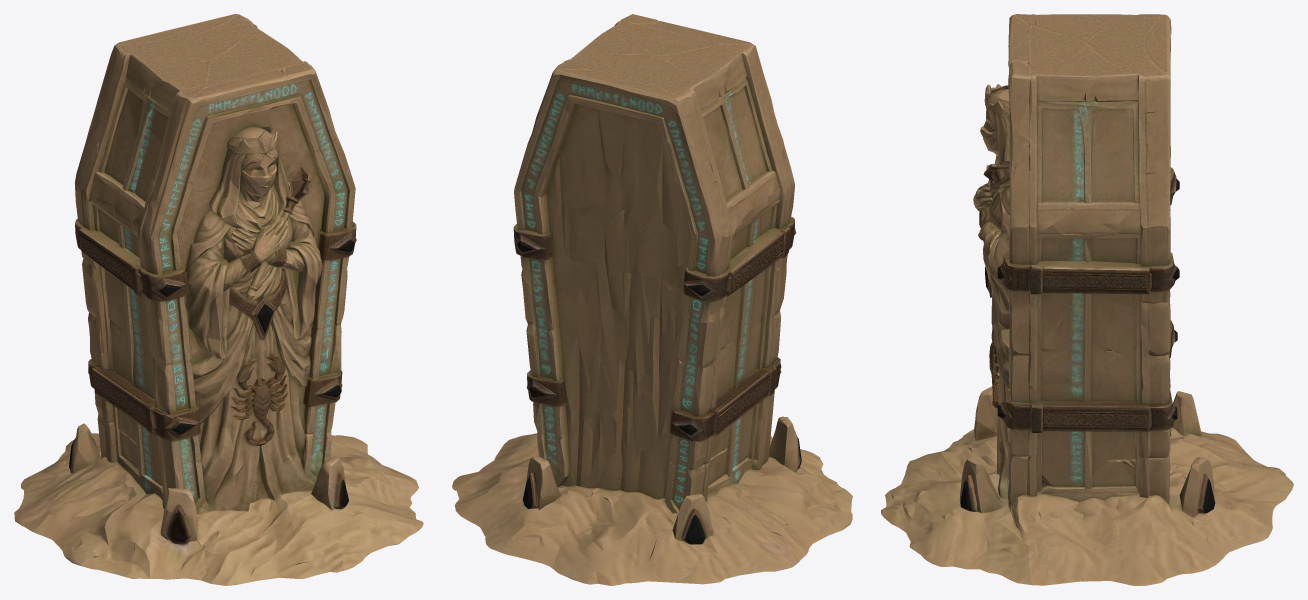
The model's file is model.opt.glb.
3 renders of one model, left to right at view 1: azimuth 30°, elevation 25°; view 2: azimuth 150°, elevation 25°; view 3: azimuth 270°, elevation 25°, orthographic.
Parts seen in each view (by area): view 1: Mesh_0; view 2: Mesh_0; view 3: Mesh_0.
Part boxes in pixels (box(x1,y1,x2,y2)): Mesh_0: box(14, 14, 423, 585); Mesh_0: box(452, 14, 852, 585); Mesh_0: box(881, 14, 1293, 585).
Size of the model in its own units: 1.53 by 1.9 by 1.56.
1 material, 1 textured.
